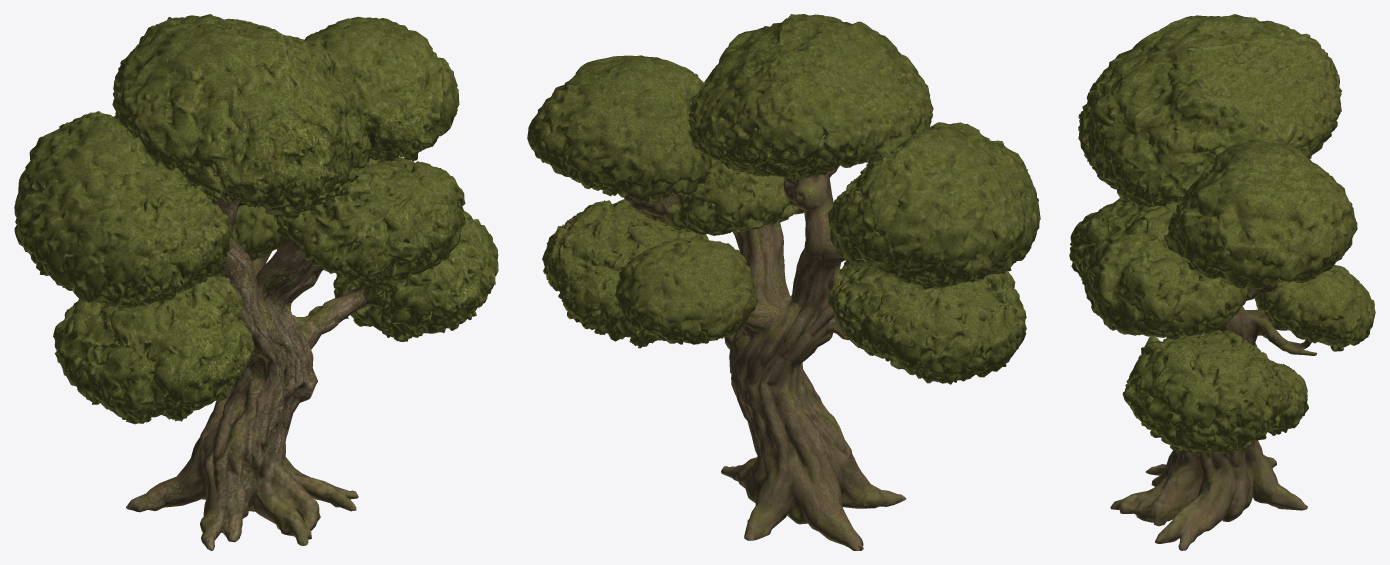
The model's file is roble.glb.
3 renders of one model, left to right at view 1: azimuth 30°, elevation 25°; view 2: azimuth 150°, elevation 25°; view 3: azimuth 270°, elevation 25°, orthographic. The views are drawn at different scales.
Visible parts, largest first — view 1: aligerado; view 2: aligerado; view 3: aligerado.
Boxes of the visible parts, box(x1,y1,x2,y2) form: aligerado: box(14, 14, 498, 550); aligerado: box(527, 14, 1040, 550); aligerado: box(1069, 14, 1375, 550).
Bounding box in the file's own units: 7.51 × 7.5 × 4.4.
1 material, 1 textured.
